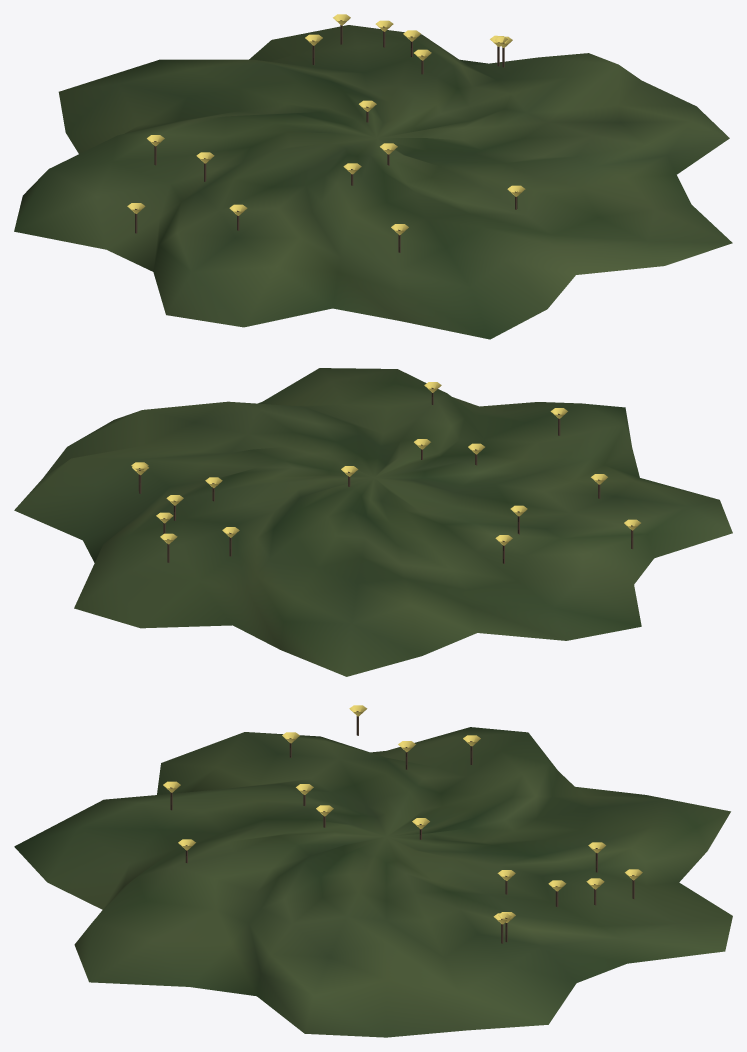
Rendered from dryas-mat.glb.
The picture shows the model from 3 angles, top to bottom: view 1: azimuth 30°, elevation 25°; view 2: azimuth 150°, elevation 25°; view 3: azimuth 270°, elevation 25°; orthographic projection. The views are drawn at different scales.
Visible parts, largest first — view 1: dryas-mat; view 2: dryas-mat; view 3: dryas-mat.
Part boxes in pixels (left/top/right/bottom): dryas-mat: left=14, top=14, right=732, bottom=339; dryas-mat: left=14, top=368, right=732, bottom=676; dryas-mat: left=14, top=705, right=732, bottom=1037.
Size of the model in its own units: 0.9601 by 0.0938 by 0.9392.
